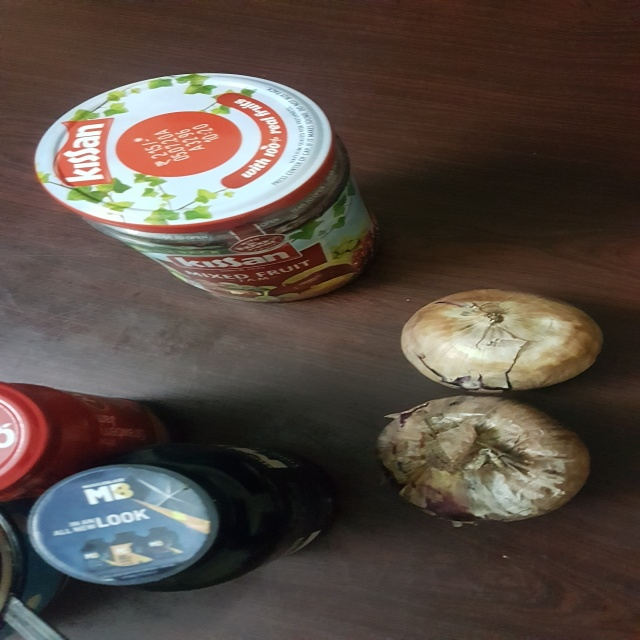onion: (374, 392, 601, 532), (392, 275, 608, 396)
